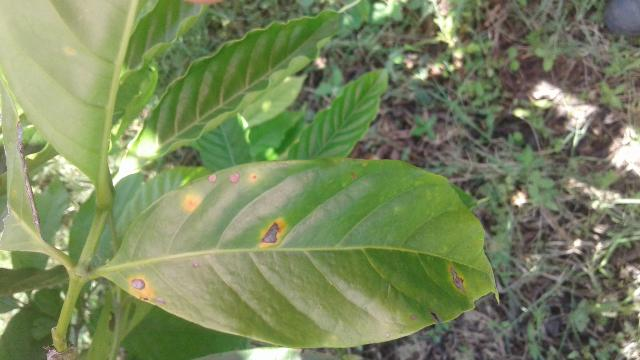rust_level_2: (98, 153, 504, 348)
